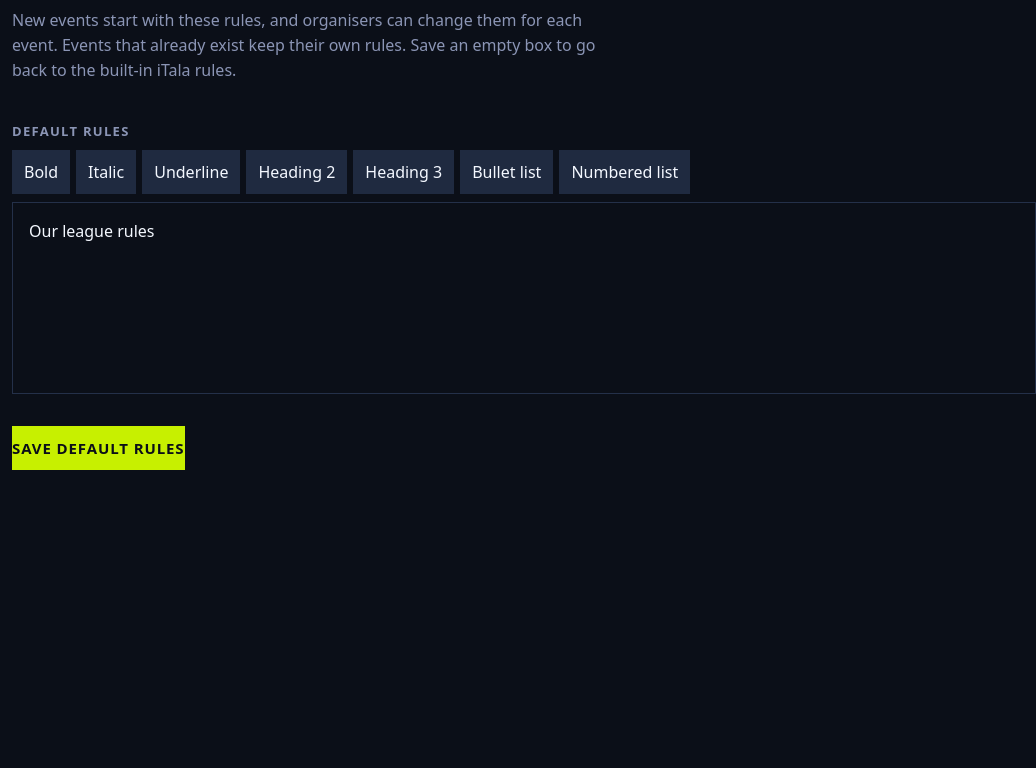
Test: Default rules (S-02) › saving an empty box says new events go back to the built-in rules
Step 1. Click the field named "Default rules" → x=524, y=298, box [12,202,1035,394]
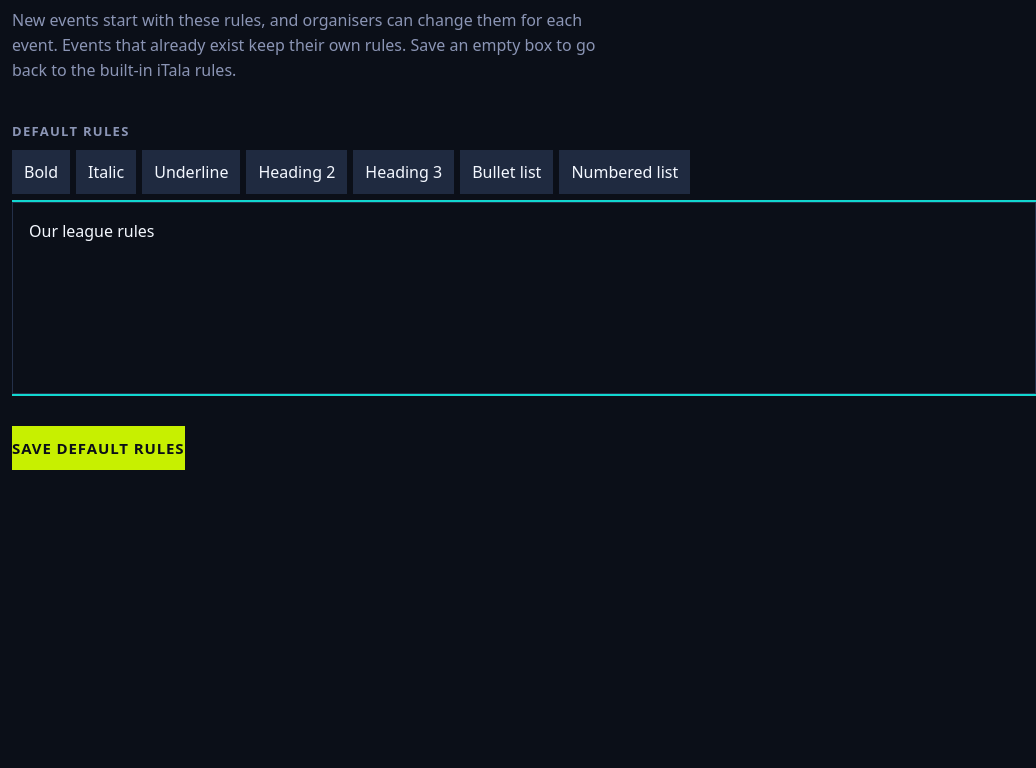
Step 2. Type keys "{Control>}a{/Control}{Backspace}"
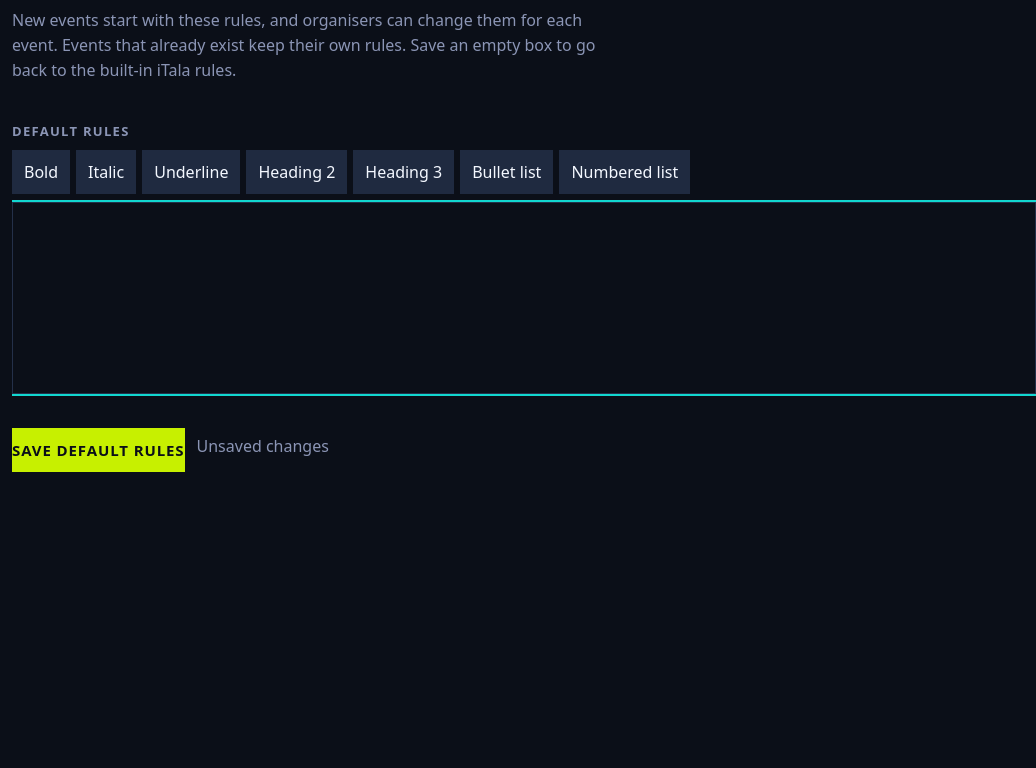
Step 3. Click the button "Save default rules" → x=98, y=450, box [12,428,184,472]
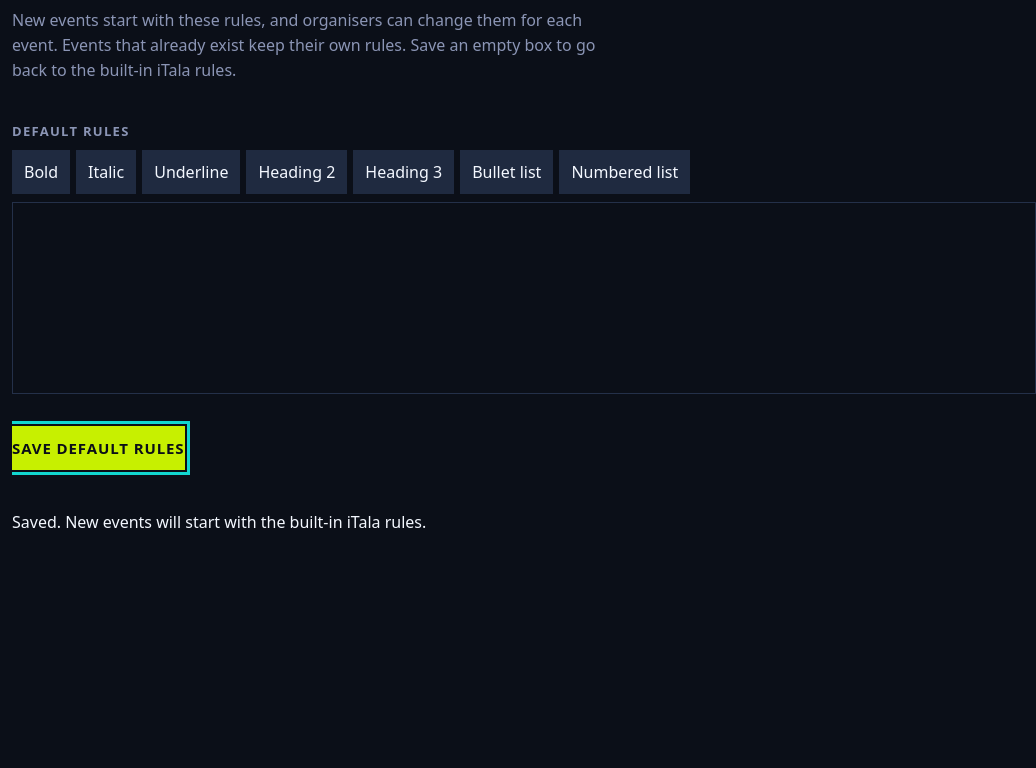
Expected: the text "Saved. New events will start with the built-in iTala rules." is shown, [12,511,426,533]
